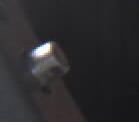screw: (23, 38, 71, 92)
